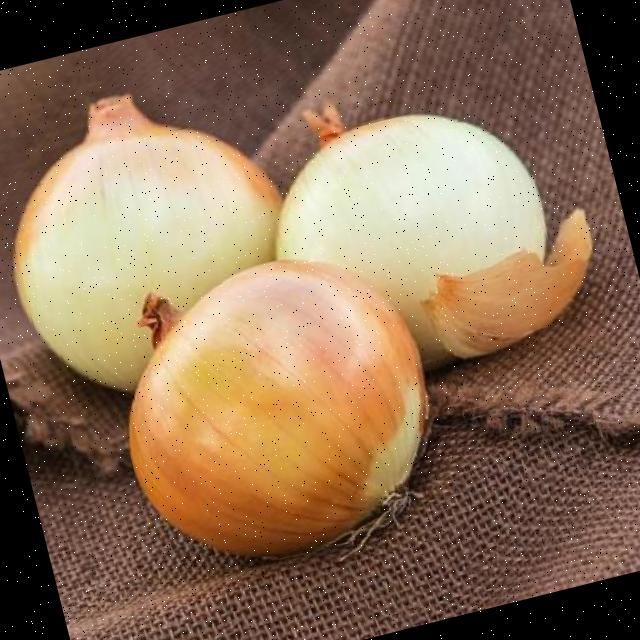Onion: (129, 261, 428, 556), (277, 104, 594, 366), (13, 94, 281, 390)
